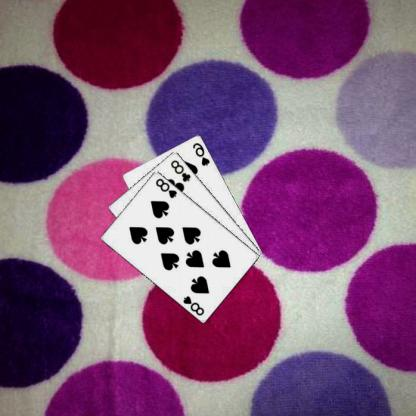6S: (192, 140, 213, 167)
8C: (170, 157, 194, 183)
8S: (155, 175, 180, 199), (182, 292, 207, 316)
